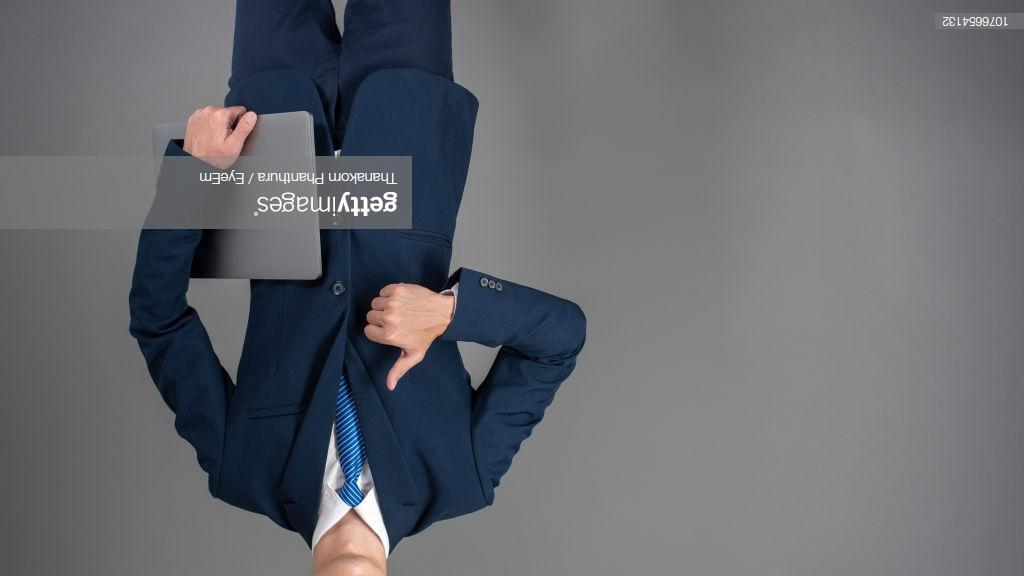thumbsdown: (363, 282, 424, 392)
